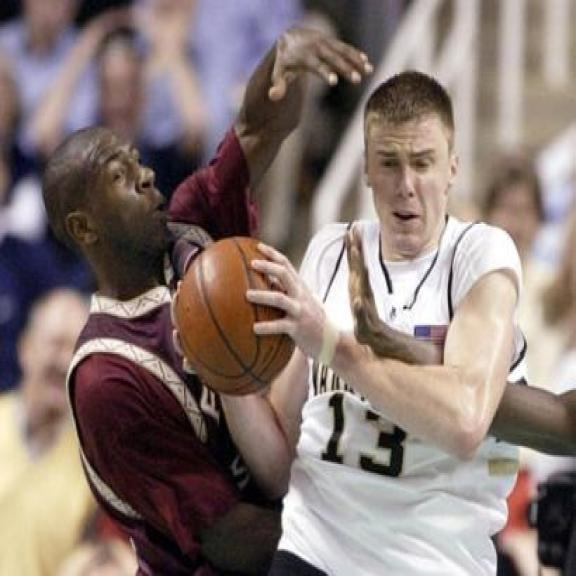face: (57, 124, 178, 276), (366, 119, 462, 256)
